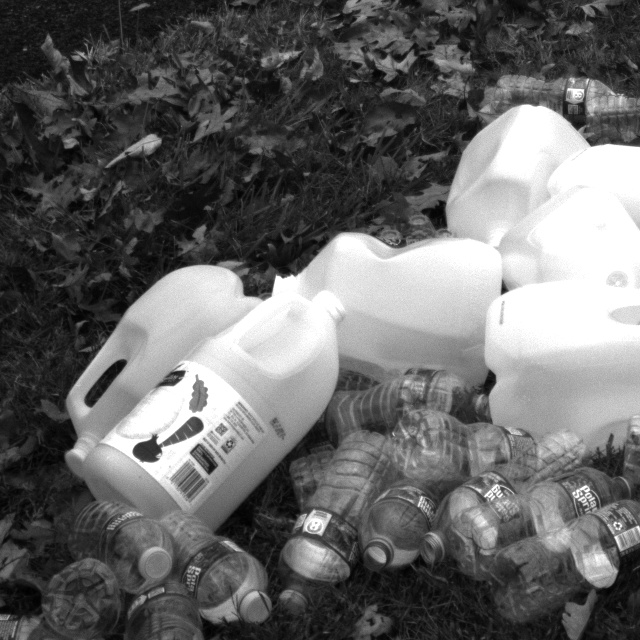bottle: (110, 495, 308, 614), (486, 482, 640, 626), (333, 449, 462, 577), (473, 52, 621, 129), (589, 407, 640, 500)
can: (82, 285, 362, 558), (50, 249, 260, 464), (428, 85, 617, 267), (265, 223, 507, 365), (481, 294, 640, 450), (506, 187, 640, 320), (534, 144, 640, 270)
